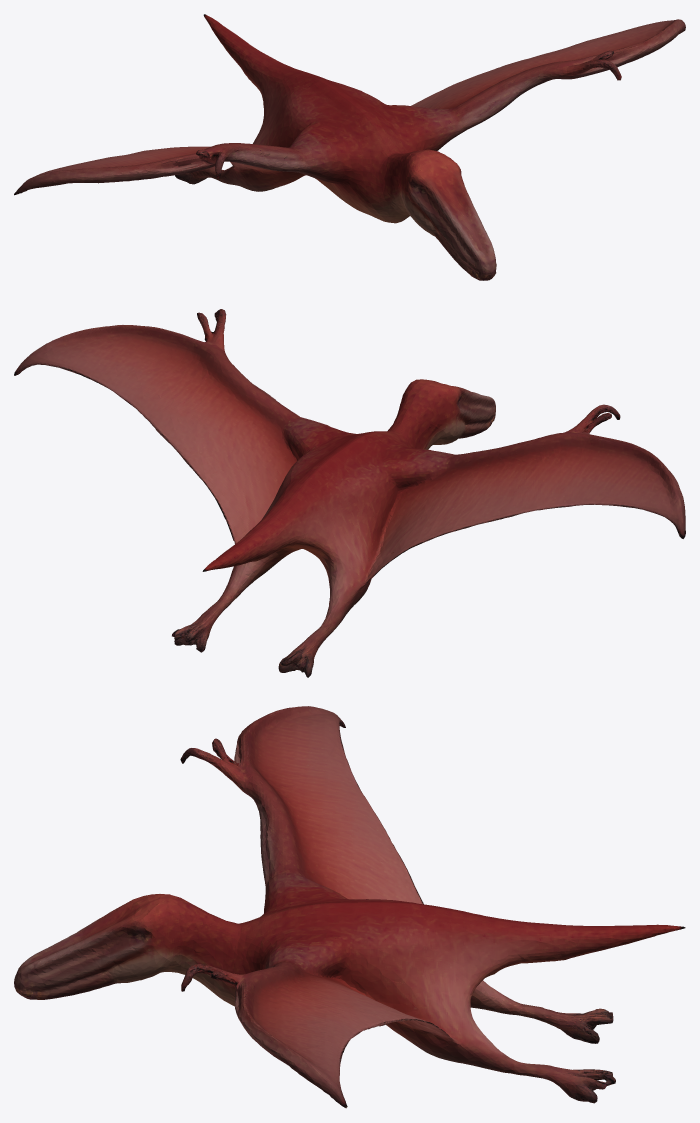
The picture shows the model from 3 angles, top to bottom: view 1: azimuth 30°, elevation 25°; view 2: azimuth 150°, elevation 25°; view 3: azimuth 270°, elevation 25°; orthographic projection. The views are drawn at different scales.
Visible parts, largest first — view 1: world; view 2: world; view 3: world.
Part boxes in pixels (x1,y1,x2,y2): world: (14, 14, 685, 280); world: (14, 309, 685, 677); world: (14, 706, 685, 1108).
Size of the model in its own units: 0.998 by 0.2598 by 0.7421.
1 material, 1 textured.
